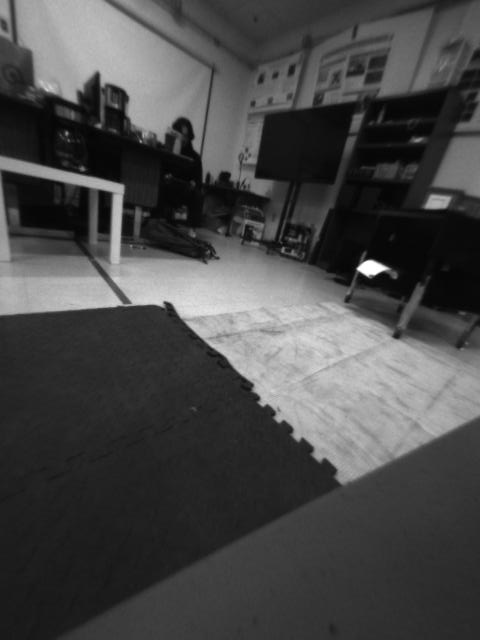coffee_pot: (40, 92, 93, 172)
